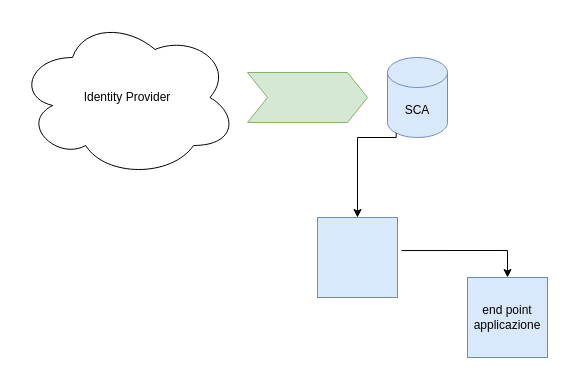
This 565x375 diagram has some shape labels left out. The centre of each missing label's shape, as x and y in pixels:
"autenticazione" belongs at [307,97].
"elenco end point autorizzati" belongs at [357,257].
